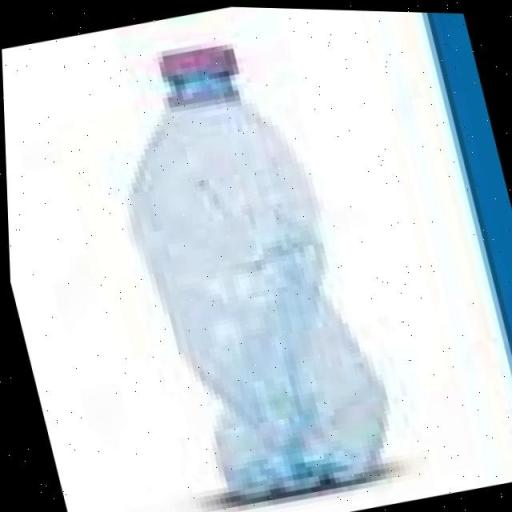plastic: (76, 7, 412, 512)
